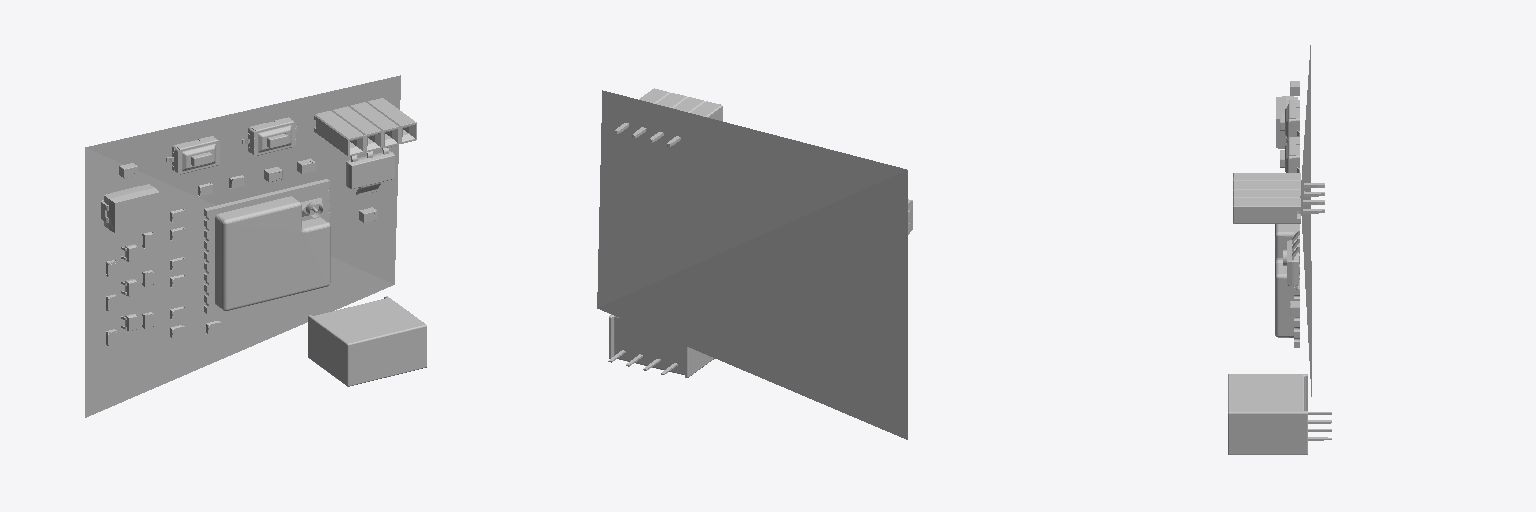
The model's file is OBJ_PCB_MHI adapter rev 3.obj.
The picture shows the model from 3 angles: view 1: azimuth 30°, elevation 25°; view 2: azimuth 150°, elevation 25°; view 3: azimuth 270°, elevation 25°; orthographic projection.
Size of the model in its own units: 178 by 148 by 51.79.